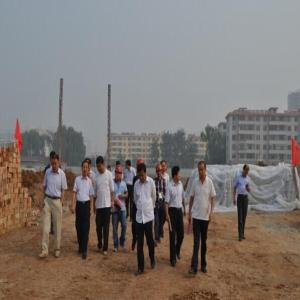none: (137, 163, 147, 184), (51, 154, 61, 173), (172, 165, 182, 184), (97, 156, 106, 175), (199, 161, 208, 180), (82, 160, 90, 178), (243, 164, 250, 177), (161, 160, 167, 175), (125, 160, 132, 172)
red: (114, 165, 124, 182), (156, 163, 163, 177)
